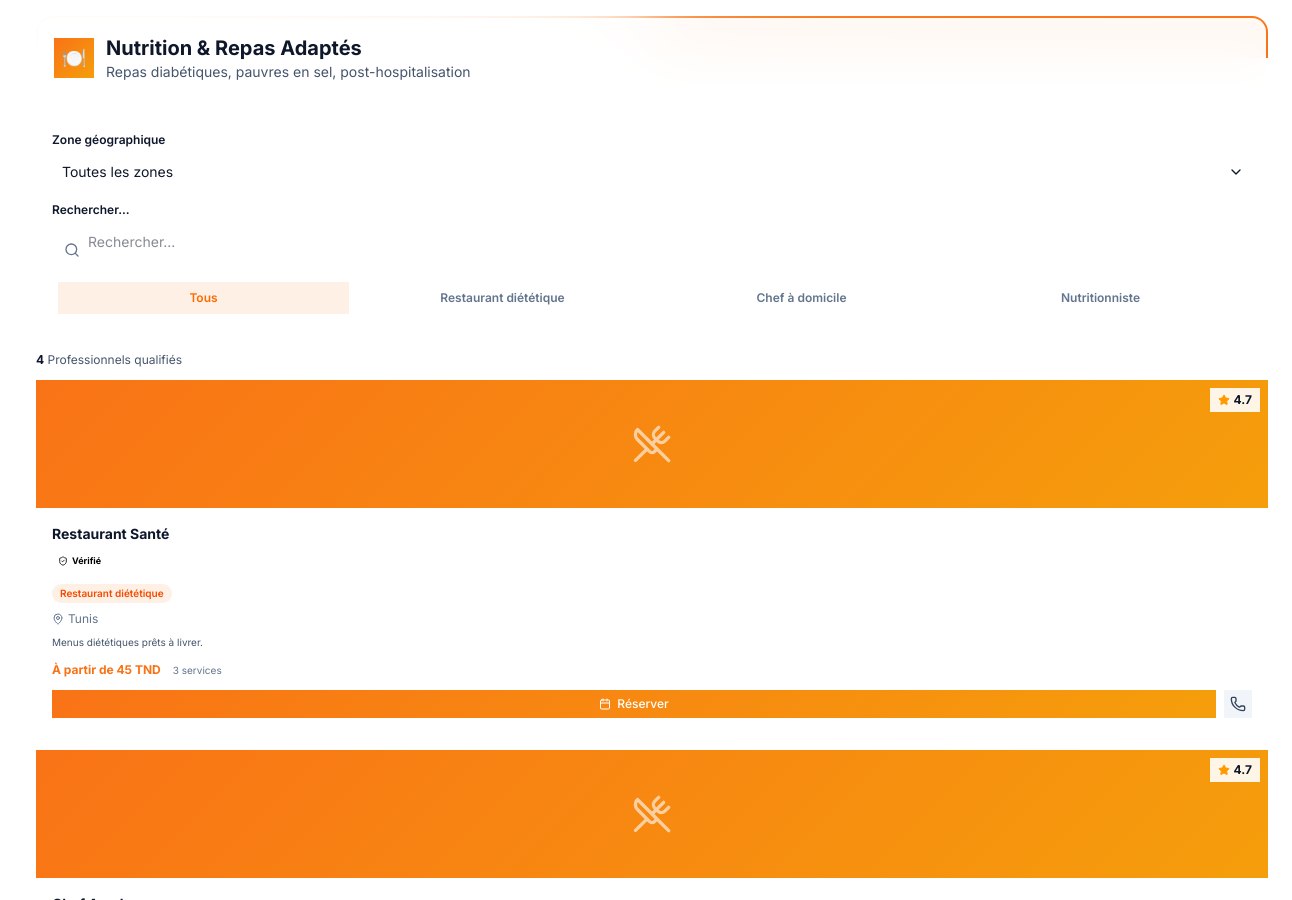
Test: NutritionProvidersPage › navigates to nutrition booking from the filtered provider set
This screenshot has width=1292, height=900.
Click the button "Restaurant diététique" at (502, 298), box left=357, top=282, right=648, bottom=314
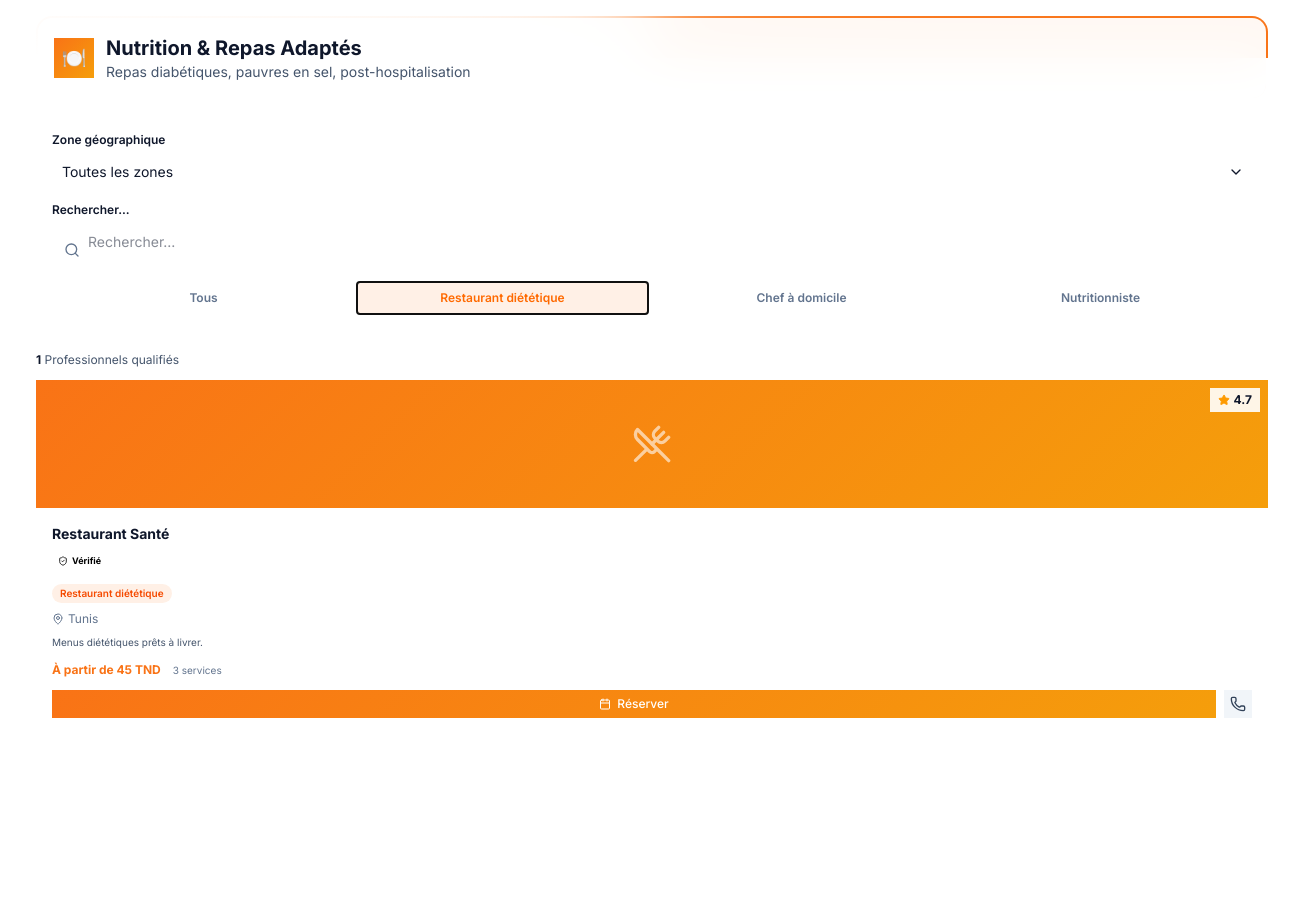
Click the button "Réserver" at (634, 704), box left=52, top=690, right=1216, bottom=718
(page scrolled)
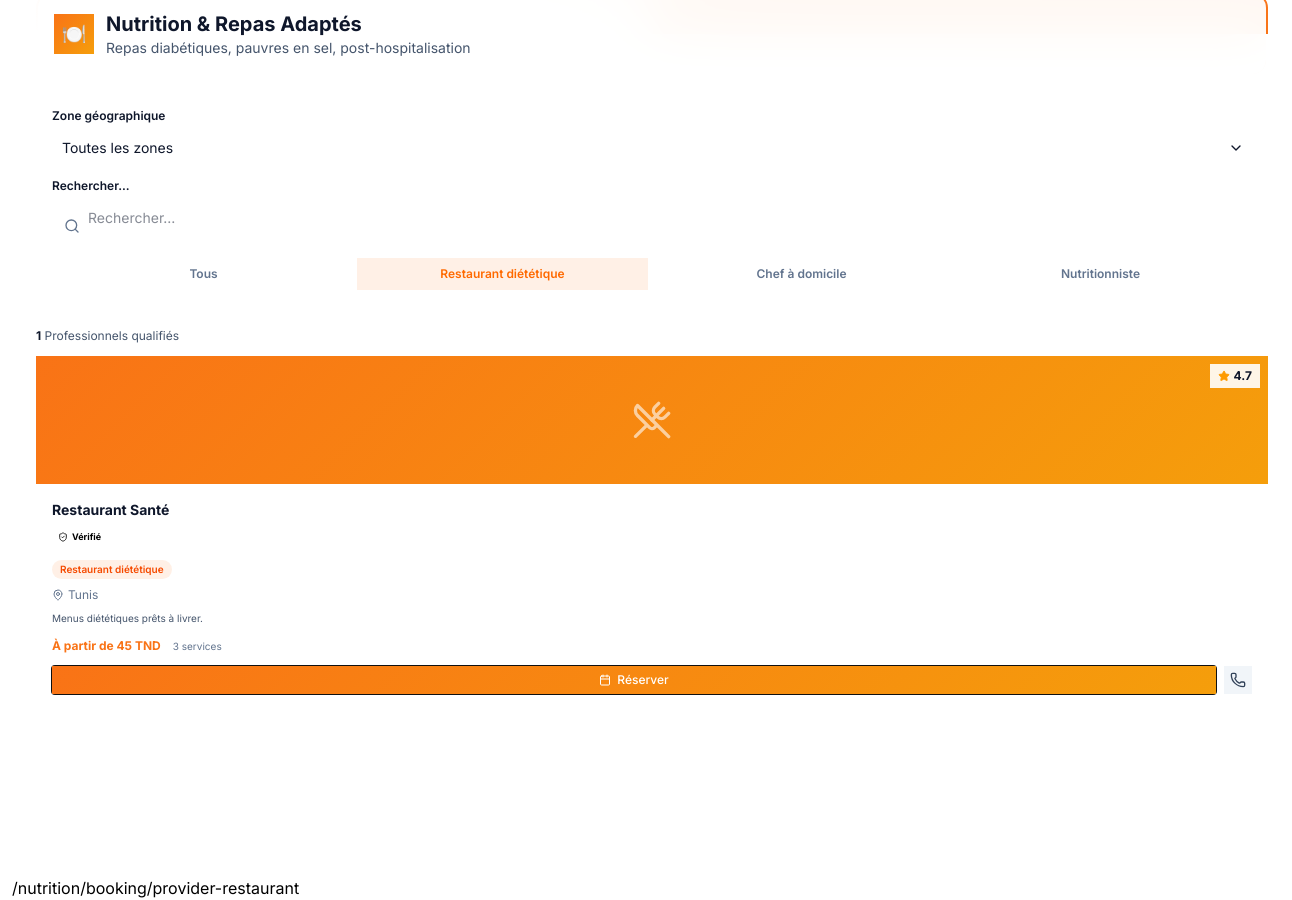
Check: the message reads "/nutrition/booking/provider-restaurant", box left=12, top=878, right=299, bottom=898
